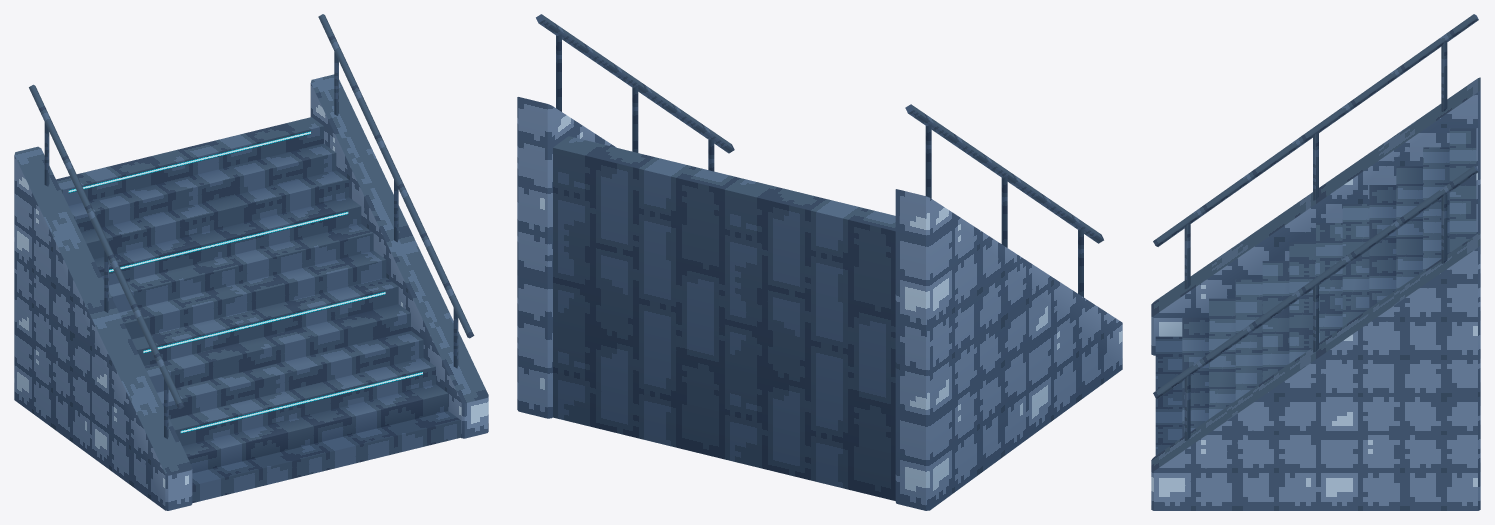
Rendered from cystreet.stairs.glb.
3 views of the same model, side by side, from view 1: azimuth 30°, elevation 25°; view 2: azimuth 150°, elevation 25°; view 3: azimuth 270°, elevation 25° (orthographic). The views are drawn at different scales.
Visible parts, largest first — view 1: kit_flight, kit_rails, kit_card_nosing; view 2: kit_flight, kit_rails; view 3: kit_flight, kit_rails.
Boxes of the visible parts, bbox=[...] form: kit_flight: bbox=[14, 74, 488, 510]; kit_rails: bbox=[29, 14, 474, 439]; kit_card_nosing: bbox=[68, 131, 422, 433]; kit_flight: bbox=[517, 97, 1122, 510]; kit_rails: bbox=[536, 14, 1103, 297]; kit_flight: bbox=[1151, 77, 1480, 510]; kit_rails: bbox=[1153, 14, 1478, 440].
Size of the model in its own units: 4.8 by 4.44 by 3.94.
Materials: 5 (5 with a texture image).
